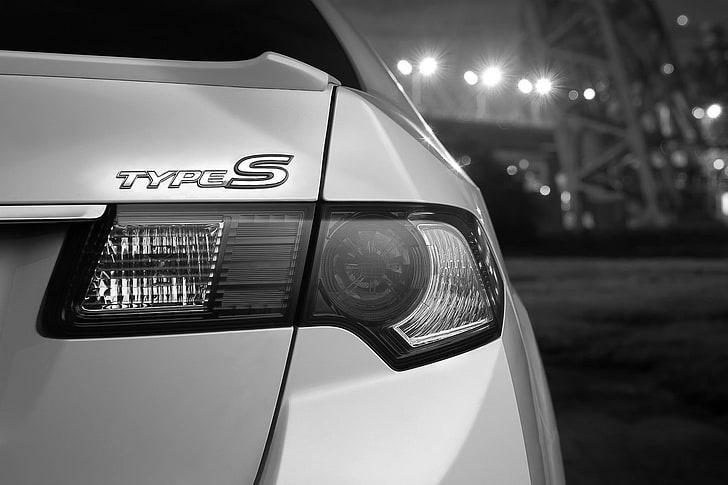Car boot: (0, 42, 335, 485)
Rear light - -R-: (34, 200, 509, 372)
